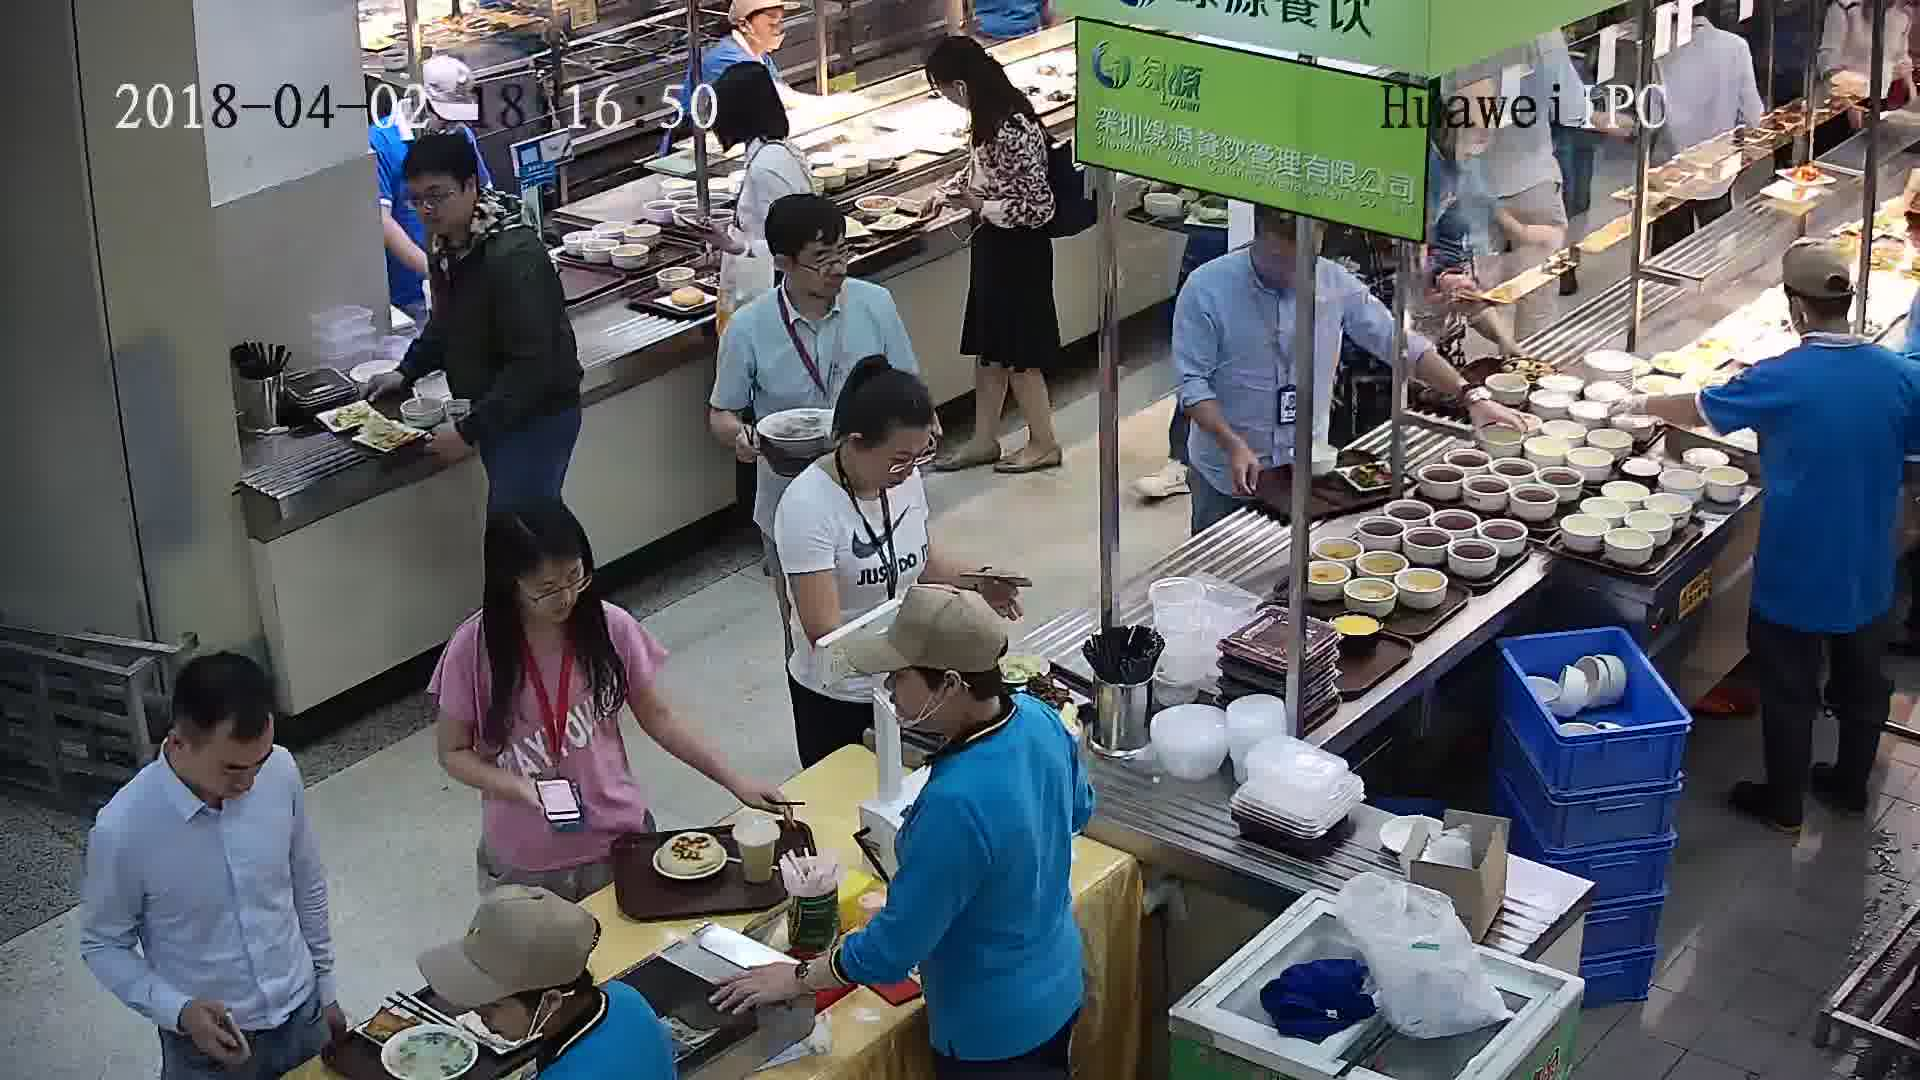face: (194, 723, 270, 799), (861, 419, 935, 493), (515, 553, 587, 625), (785, 229, 855, 298), (410, 172, 471, 233)
person: (874, 583, 1081, 854), (87, 649, 310, 875), (417, 887, 673, 1074), (438, 496, 641, 695), (1733, 238, 1916, 414), (719, 194, 904, 356), (774, 362, 938, 542), (395, 131, 547, 292), (1180, 202, 1363, 323), (920, 32, 1042, 152), (704, 67, 811, 191), (699, 2, 793, 88), (403, 50, 486, 138)
